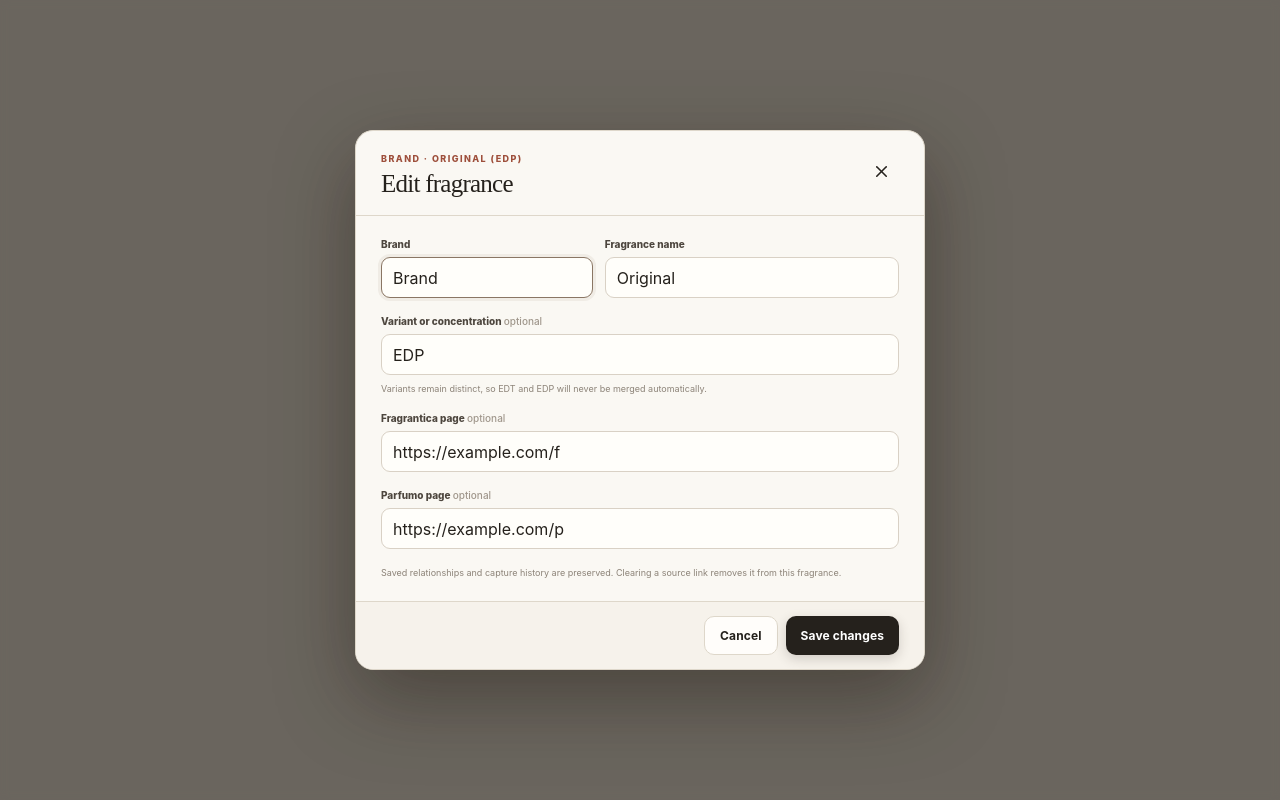
Test: edit fragrance dialog › disables fields and dismissal while saving, and retains values after a storage failure
This screenshot has width=1280, height=800.
Replace the text in the field labelled "Fragrance name" with "Corrected": (752,278) [605, 257, 899, 298]
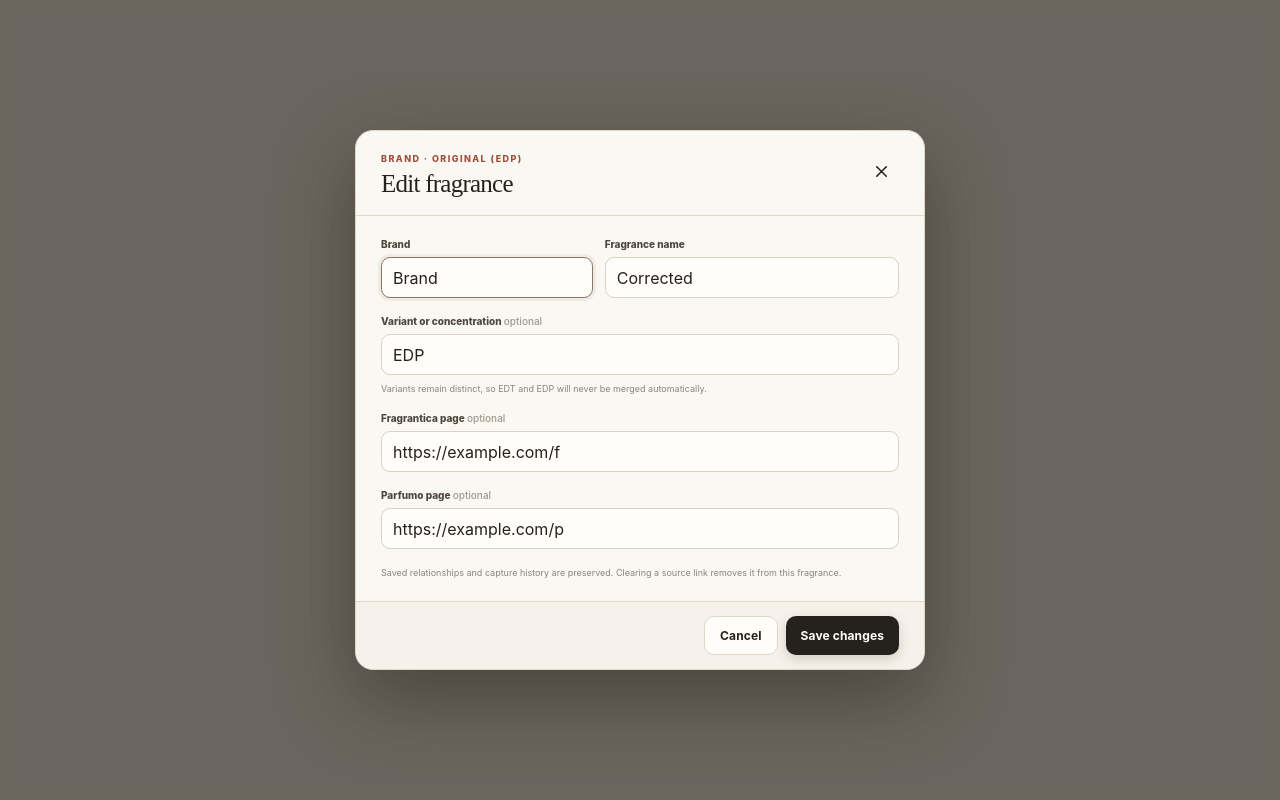
Click the button "Save changes": (842,636) [786, 616, 899, 655]
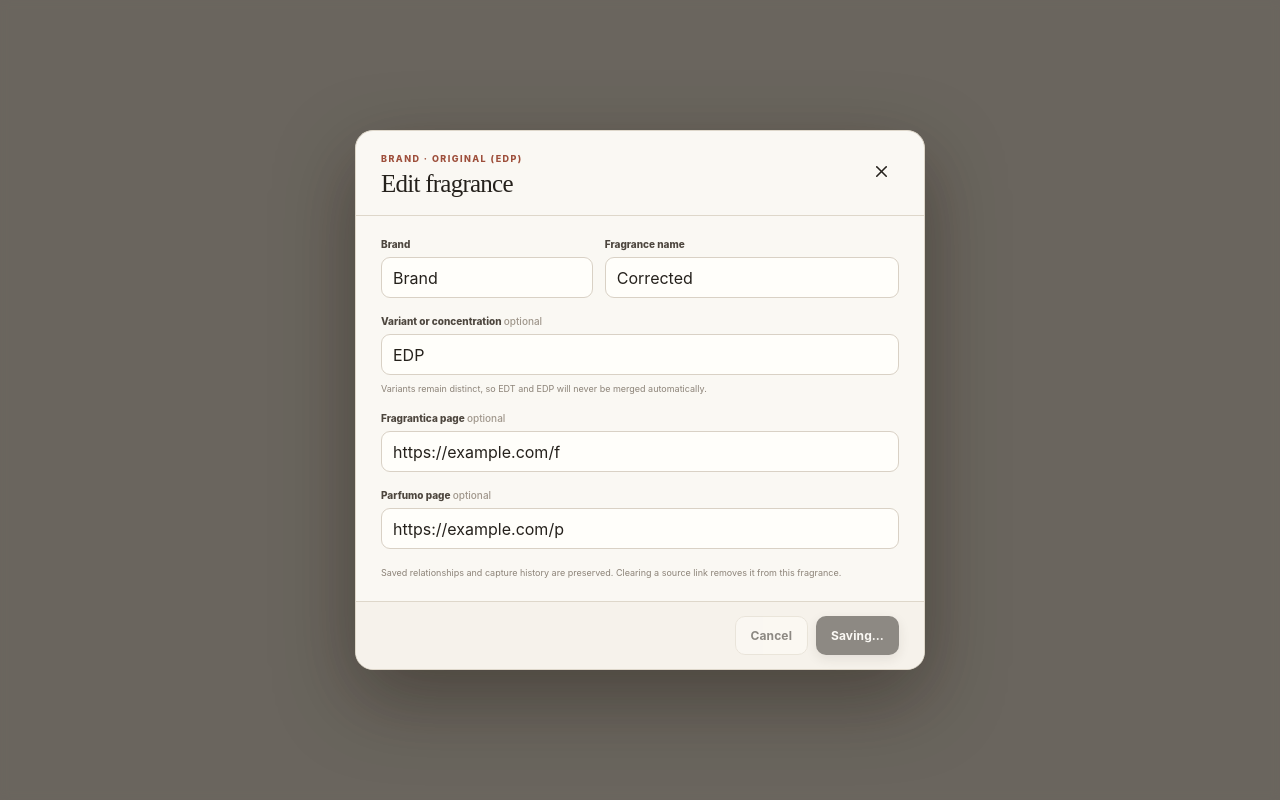
Check: the button named "Close" is disabled, box [863, 154, 899, 190]
Check: the button "Saving…" is disabled, box [816, 616, 899, 655]
Check: the button "Cancel" is disabled, box [734, 616, 808, 655]
Press the mouse on the element that starts with "Brand · Original (EDP)": (640,400) [0, 0, 1279, 799]
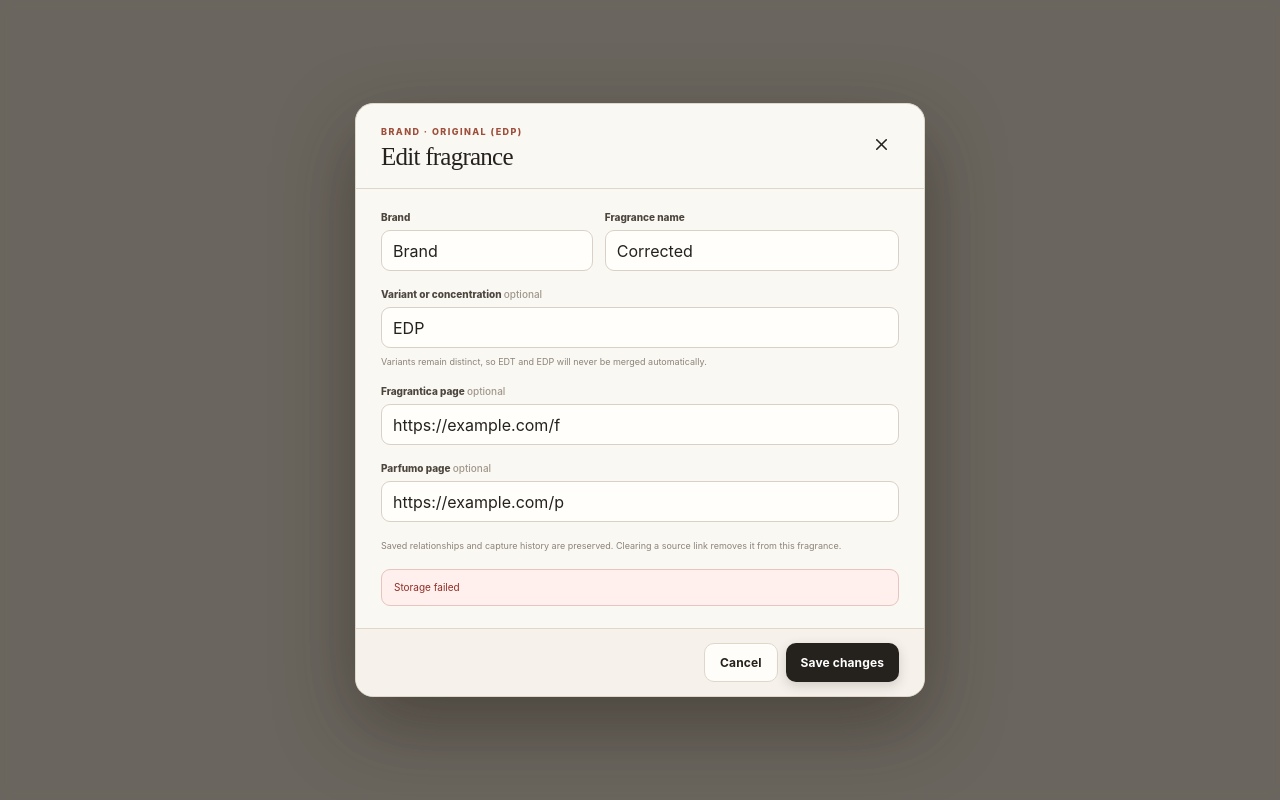
Check: the message reads "Storage failed", box [394, 581, 460, 593]
Check: the button "Save changes" is enabled, box [786, 643, 899, 682]
